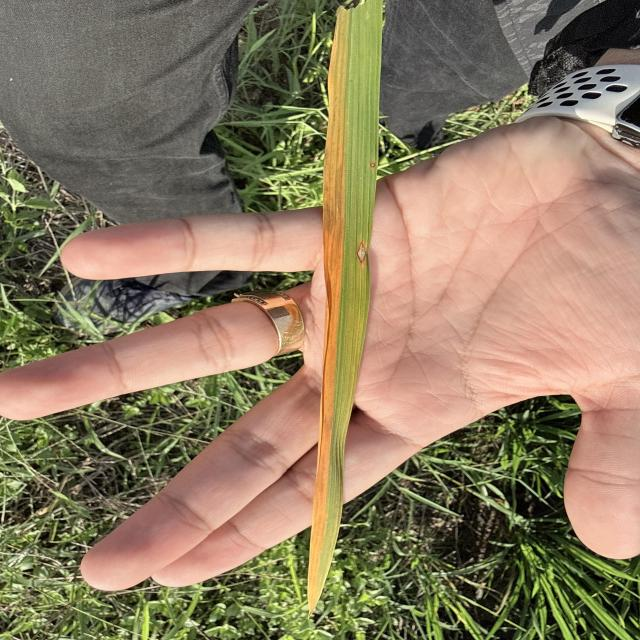Chay bia la: (308, 24, 345, 611)
